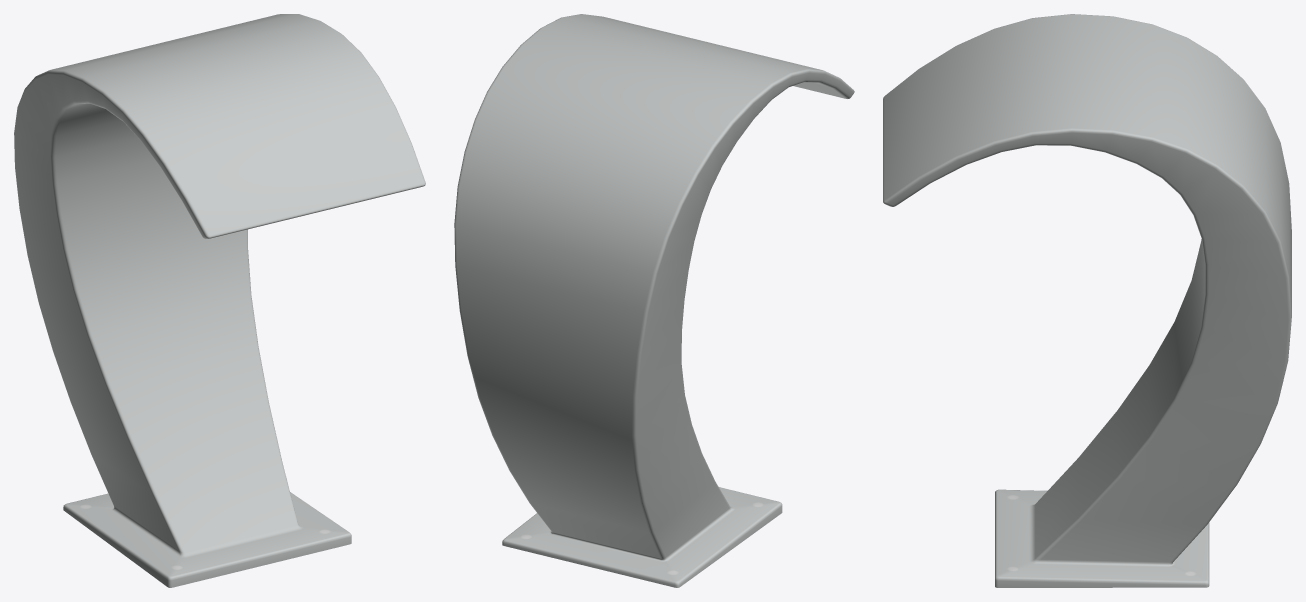
Rendered from PoolSpa01.FBX.
The picture shows the model from 3 angles, left to right: view 1: azimuth 30°, elevation 25°; view 2: azimuth 150°, elevation 25°; view 3: azimuth 270°, elevation 25°; orthographic projection. The views are drawn at different scales.
Parts seen in each view (by area): view 1: PoolSpa01; view 2: PoolSpa01; view 3: PoolSpa01.
Part boxes in pixels (<box>): PoolSpa01: <box>14,14,425,587</box>; PoolSpa01: <box>454,14,854,587</box>; PoolSpa01: <box>883,14,1291,587</box>.
Size of what is drawn, in the model's own units: 0.4366 by 0.8256 by 0.6478.
